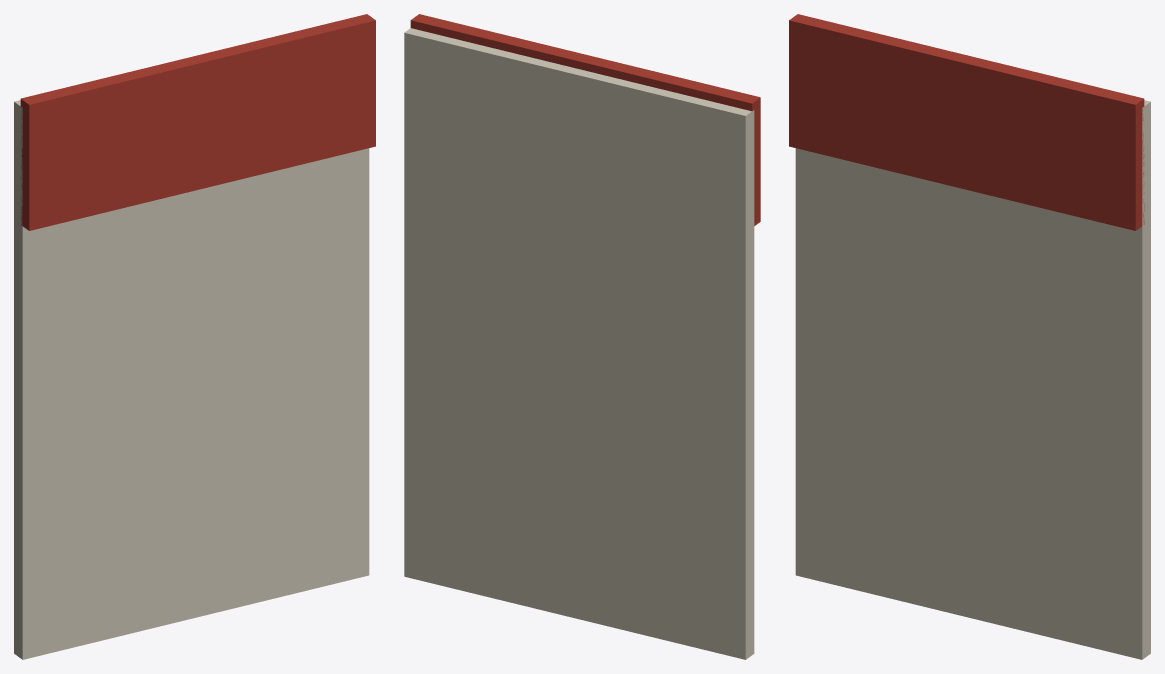
The model's file is calendar.glb.
3 renders of one model, left to right at view 1: azimuth 30°, elevation 25°; view 2: azimuth 150°, elevation 25°; view 3: azimuth 330°, elevation 25°, orthographic.
Visible parts, largest first — view 1: body; view 2: body; view 3: body.
Part boxes in pixels (x1,y1,x2,y2): body: (14, 14, 375, 659); body: (404, 14, 760, 659); body: (789, 14, 1150, 659).
Bounding box in the file's own units: 0.46 × 0.71 × 0.035.
